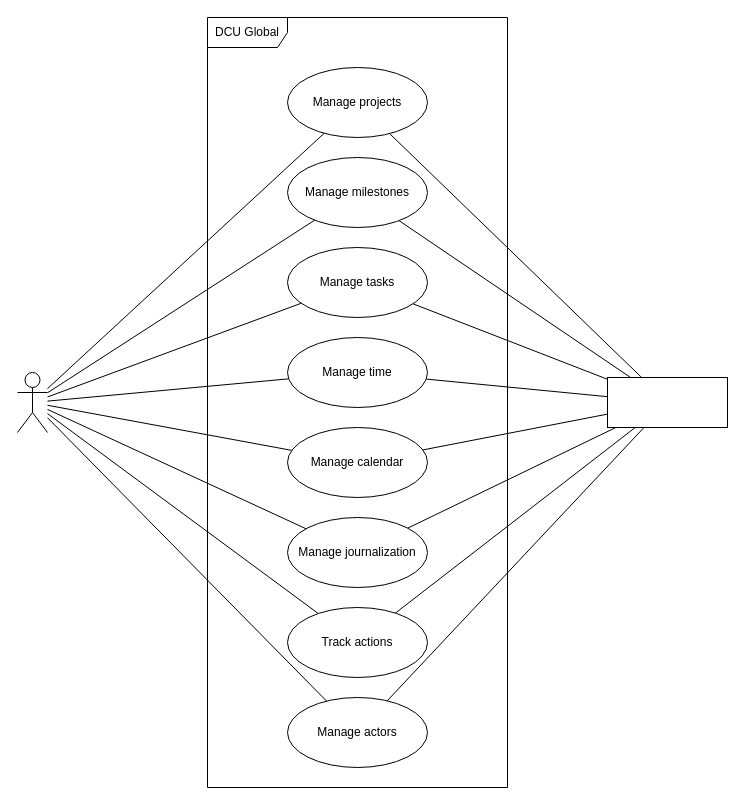
The diagram is 745 pixels wide and 805 high, and some of its shapes have lost their labels. The shapes that lost their labels are listed below. From the top down, each one's centre as x and y in pixels, then its label:
At point 32,402: "Actor".
At point 667,402: "«actor» database".
